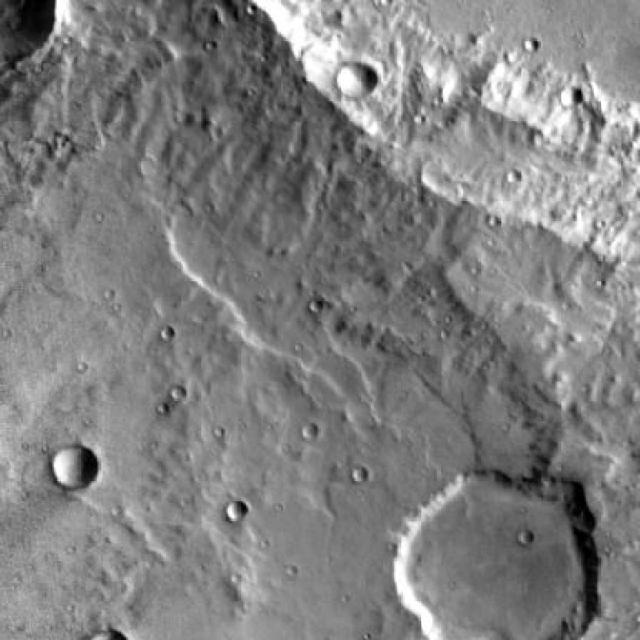crater: (384, 474, 596, 640), (49, 442, 100, 488), (336, 64, 376, 101), (559, 88, 581, 108), (225, 503, 246, 523), (300, 427, 317, 442)
